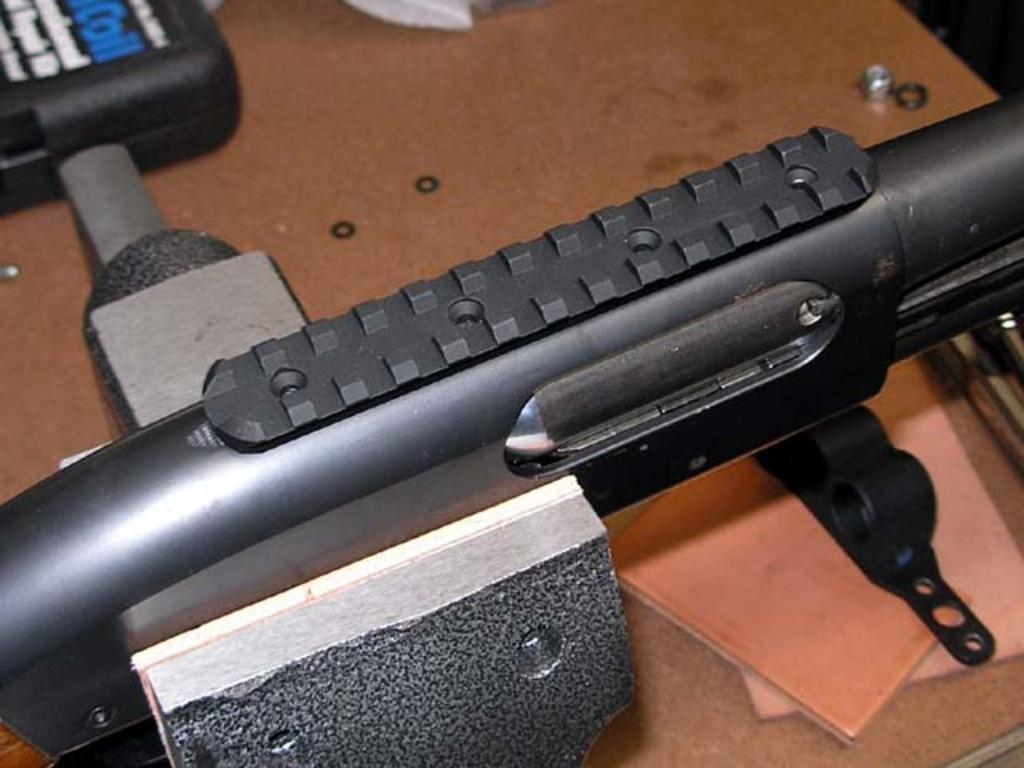Rifle: (0, 45, 1024, 768)
